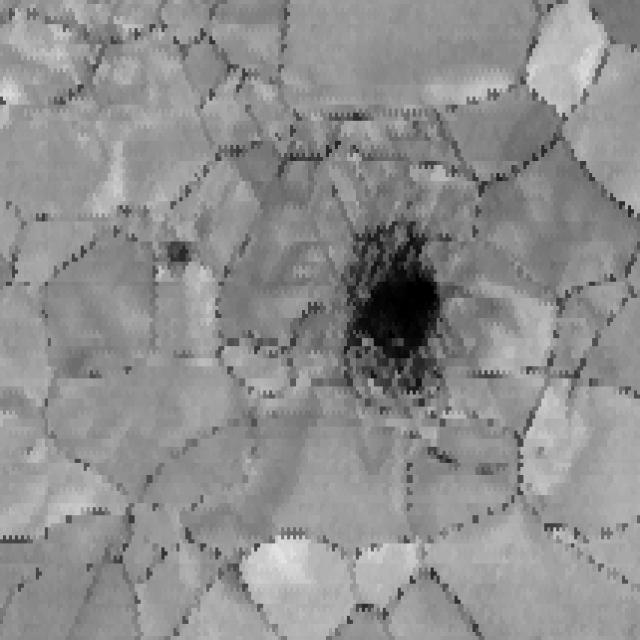good_void: (331, 216, 457, 389), (161, 236, 194, 281), (530, 440, 550, 464)
